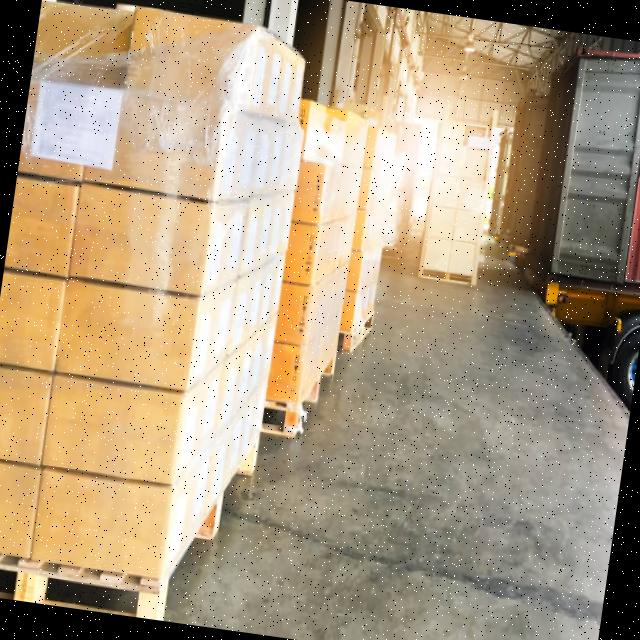Wooden-Pallets: (0, 553, 167, 621), (414, 263, 479, 293)
